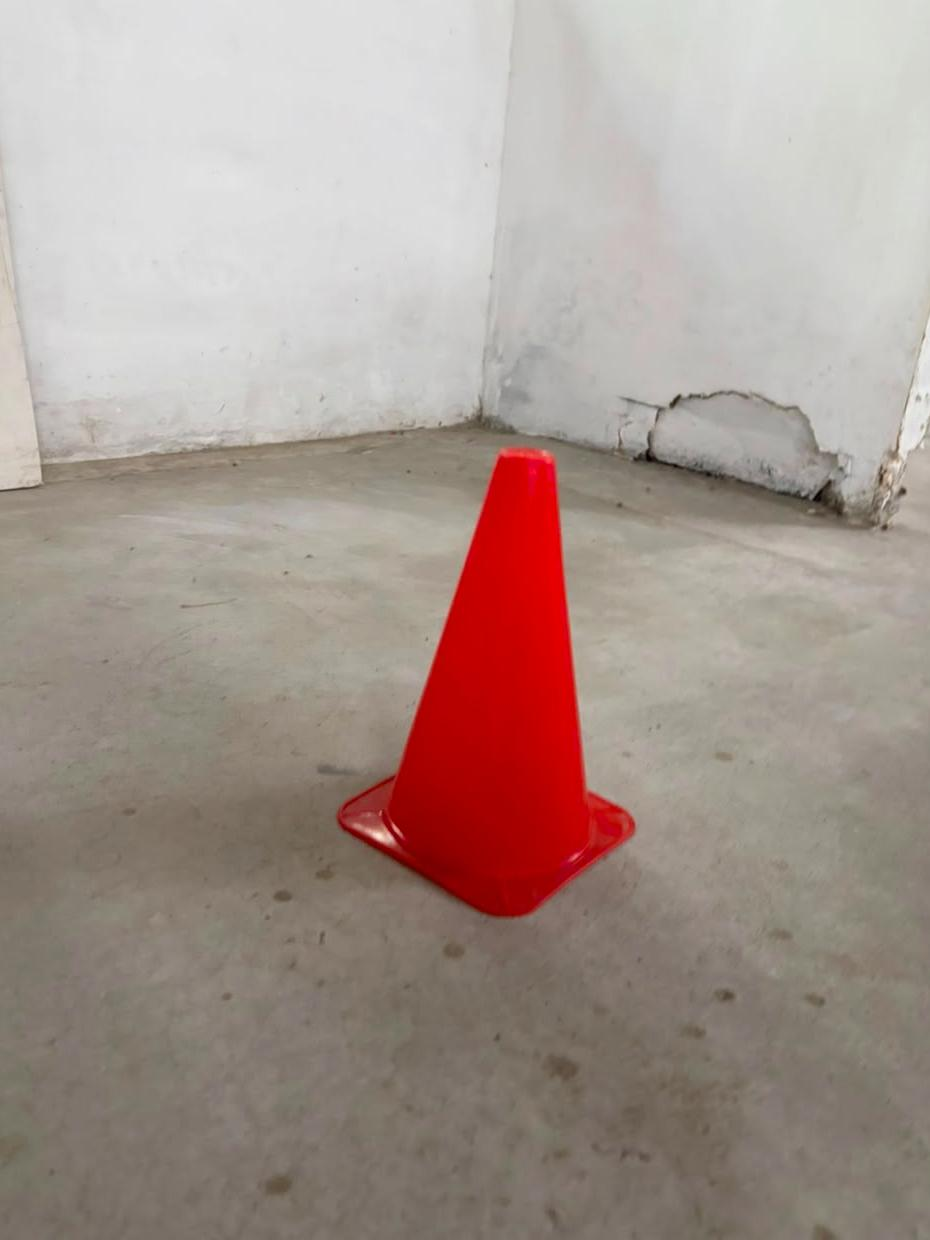0 cone: (338, 448, 633, 917)
